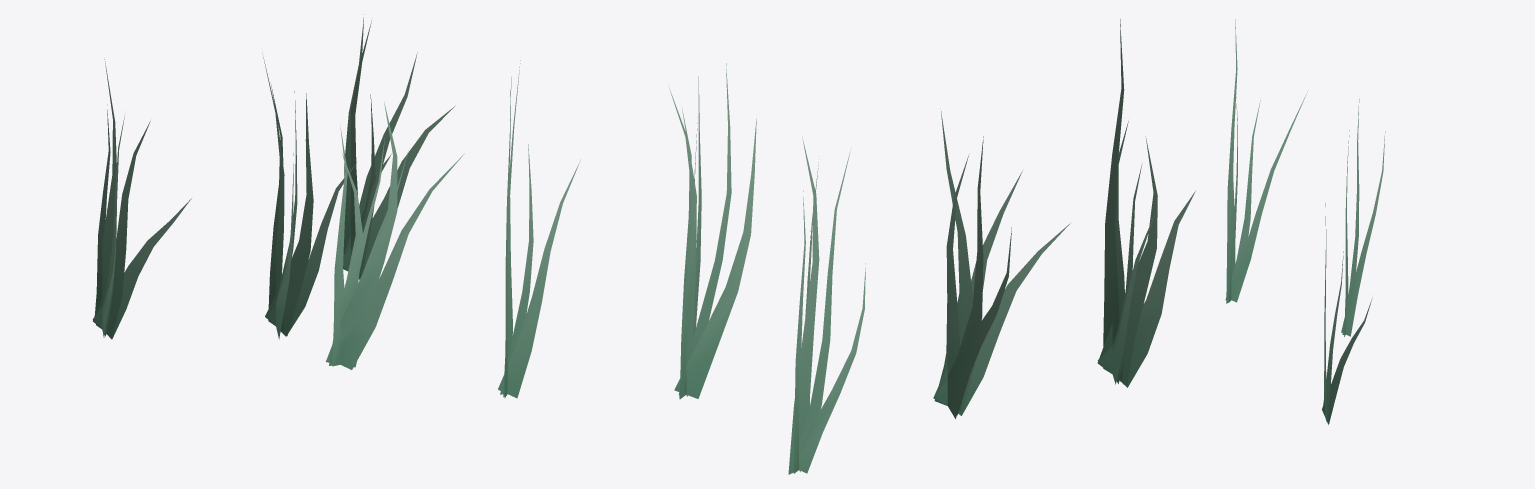
The model's file is mesh-plant-021-fanpalm-weed_LOD1.glb.
3 renders of one model, left to right at view 1: azimuth 30°, elevation 25°; view 2: azimuth 150°, elevation 25°; view 3: azimuth 270°, elevation 25°, orthographic. The views are drawn at different scales.
Parts seen in each view (by area): view 1: geometry_0; view 2: geometry_0; view 3: geometry_0.
Boxes of the visible parts, left/top/right/bottom form: geometry_0: left=92, top=14, right=464, bottom=369; geometry_0: left=498, top=19, right=1195, bottom=474; geometry_0: left=1225, top=19, right=1385, bottom=424.
Bounding box in the file's own units: 1.66 × 0.9884 × 0.9106.
